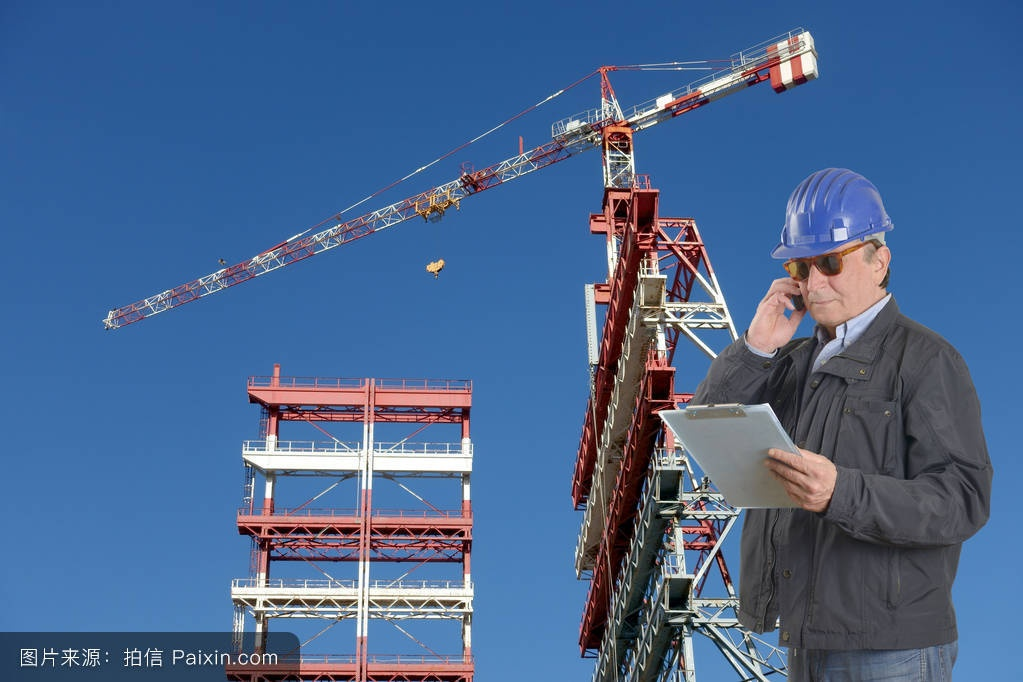blue: (775, 166, 895, 325)
